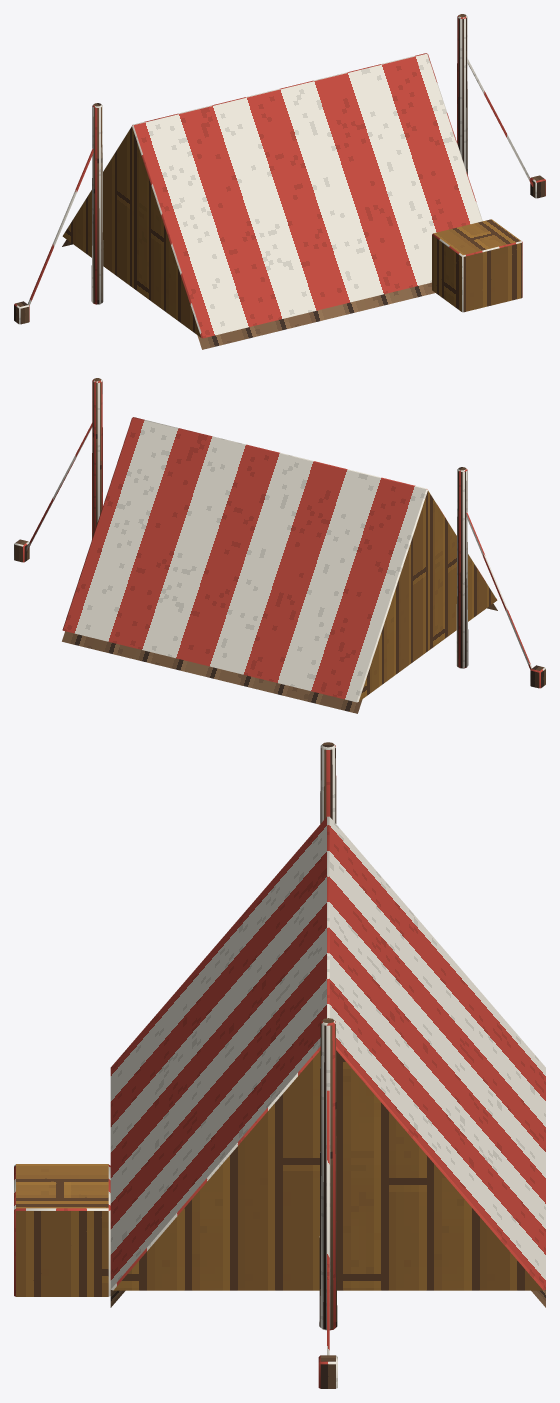
The model's file is spec_tent_2.glb.
The picture shows the model from 3 angles, top to bottom: view 1: azimuth 30°, elevation 25°; view 2: azimuth 150°, elevation 25°; view 3: azimuth 270°, elevation 25°; orthographic projection. The views are drawn at different scales.
Visible parts, largest first — view 1: spec_tent_2; view 2: spec_tent_2; view 3: spec_tent_2.
Part boxes in pixels (box(x1,y1,x2,y2)): spec_tent_2: box(14, 14, 545, 349); spec_tent_2: box(14, 378, 545, 713); spec_tent_2: box(14, 742, 545, 1388).
Bounding box in the file's own units: 3.9 × 1.43 × 2.2.
4 materials, 4 textured.
